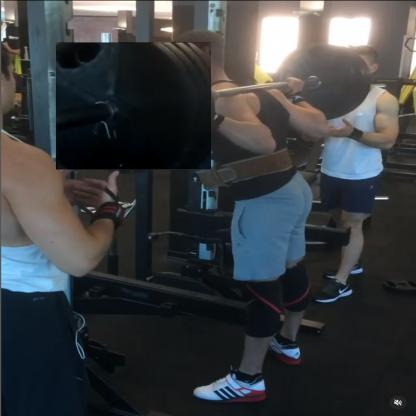barbell: (57, 44, 213, 172)
